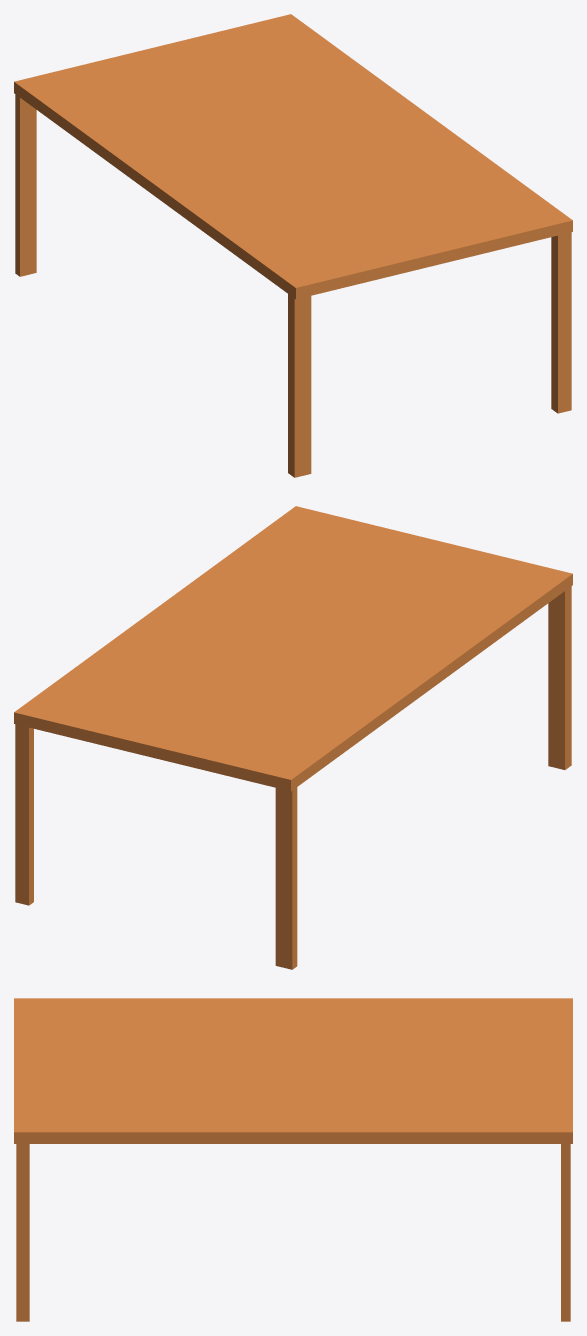
File: table.fbx
3 renders of one model, top to bottom at view 1: azimuth 30°, elevation 25°; view 2: azimuth 150°, elevation 25°; view 3: azimuth 270°, elevation 25°, orthographic.
Parts seen in each view (by area): view 1: Cube; view 2: Cube; view 3: Cube.
Part boxes in pixels (bbox=[...]): Cube: bbox=[14, 14, 572, 477]; Cube: bbox=[14, 506, 572, 969]; Cube: bbox=[14, 998, 572, 1321].
Size of the model in its own units: 378 by 249 by 666.
